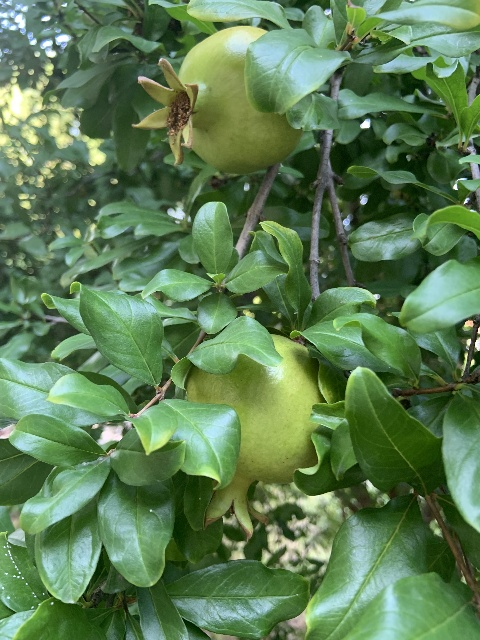mid-growth: (185, 334, 324, 542), (132, 25, 303, 174)
